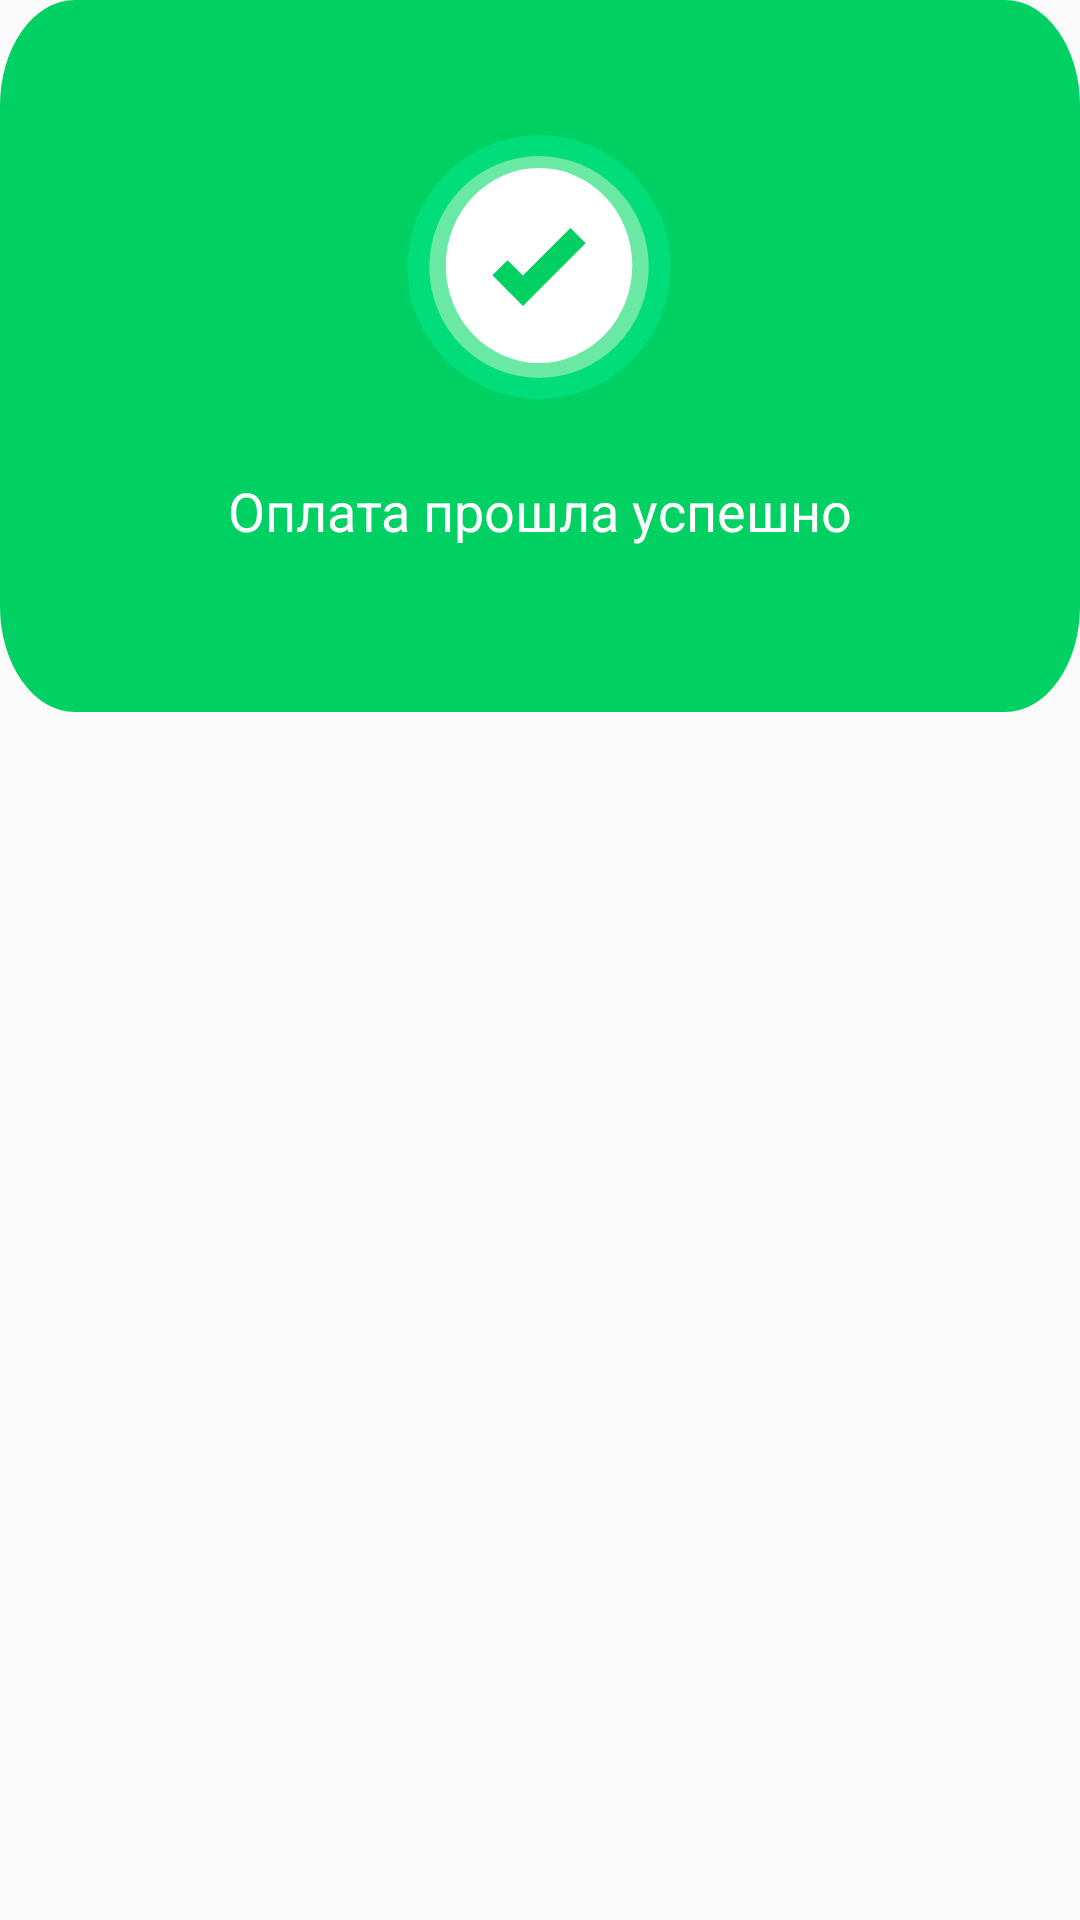

Screen size 1080x1920. Icon name, then its center in pixels as [x,y]:
true pay: [539,267]
